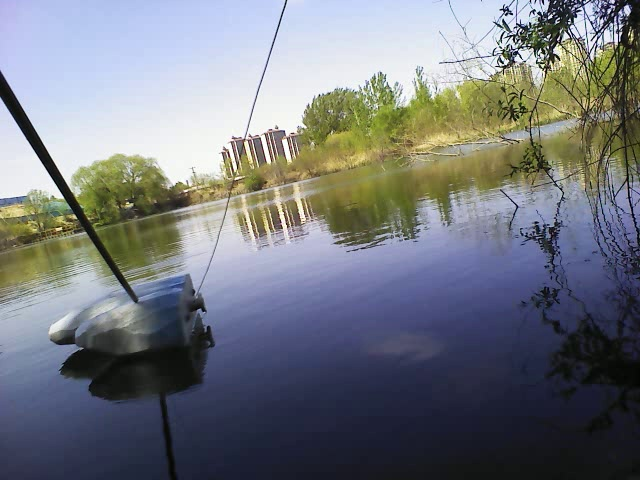iceberg: (45, 270, 211, 359)
